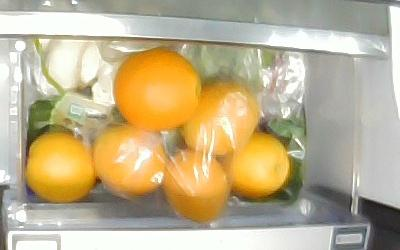orange: (112, 48, 202, 129), (24, 133, 94, 200), (223, 131, 290, 198)
orange_vinyl: (178, 81, 259, 151), (94, 125, 165, 196), (162, 147, 228, 222)
